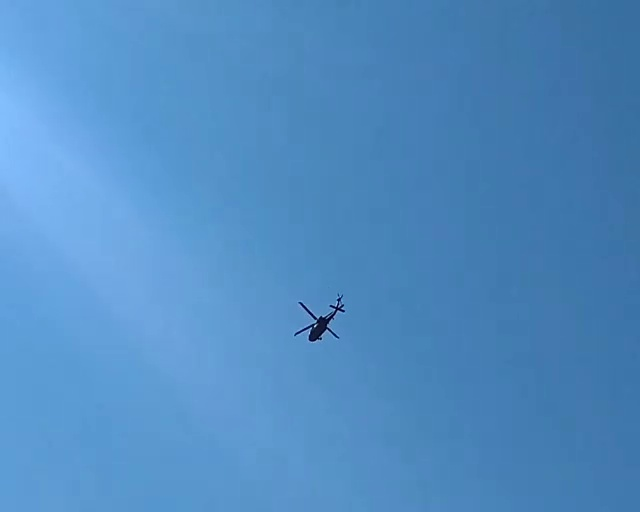HELICOPTER: (293, 292, 346, 342)
